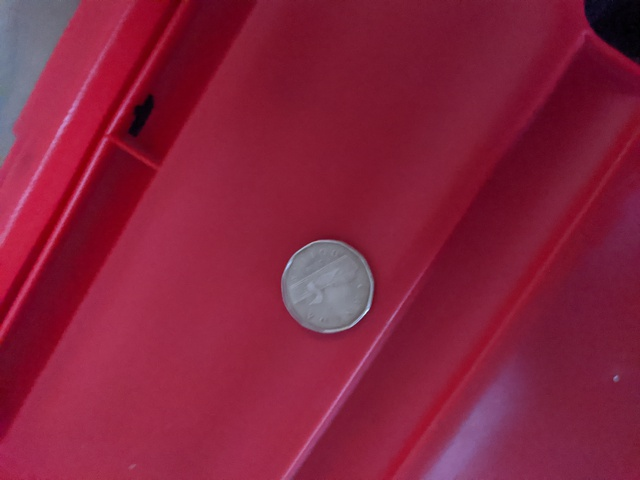loonie: (264, 239, 384, 343)
